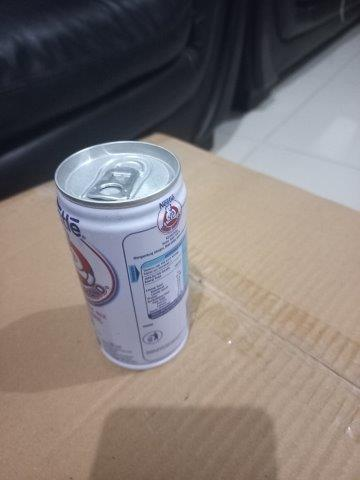kaleng: (54, 140, 191, 372)
kardus: (1, 131, 360, 480)
